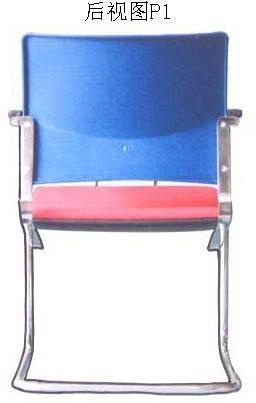obstacle: (10, 32, 240, 393)
